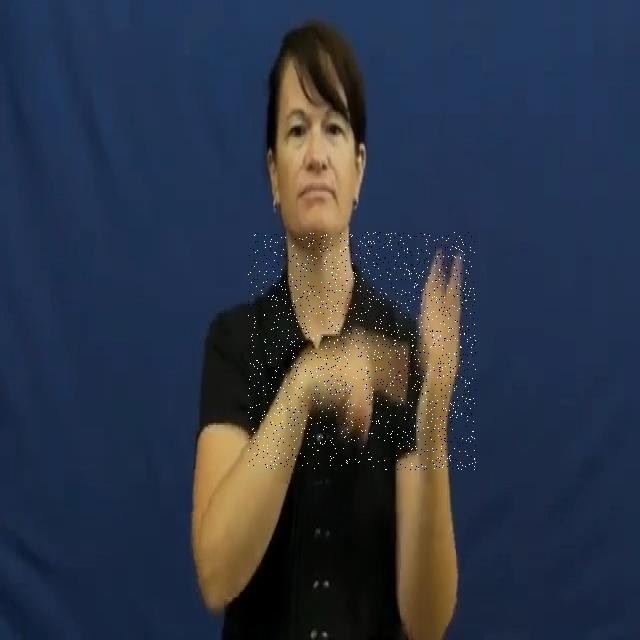menu: (248, 232, 476, 470)
